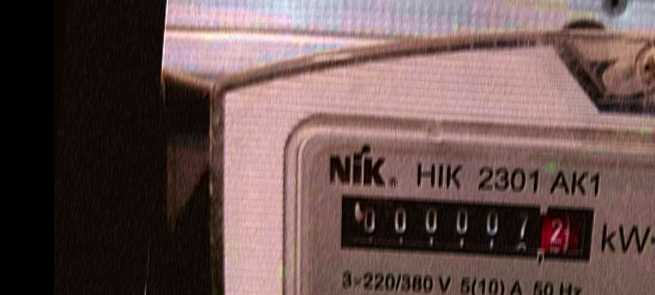0: (420, 207, 440, 235), (390, 207, 409, 236), (482, 208, 500, 238), (359, 206, 378, 234), (452, 207, 469, 235)
2: (546, 217, 565, 247)
7: (512, 212, 530, 242)
screen: (328, 182, 606, 274)
